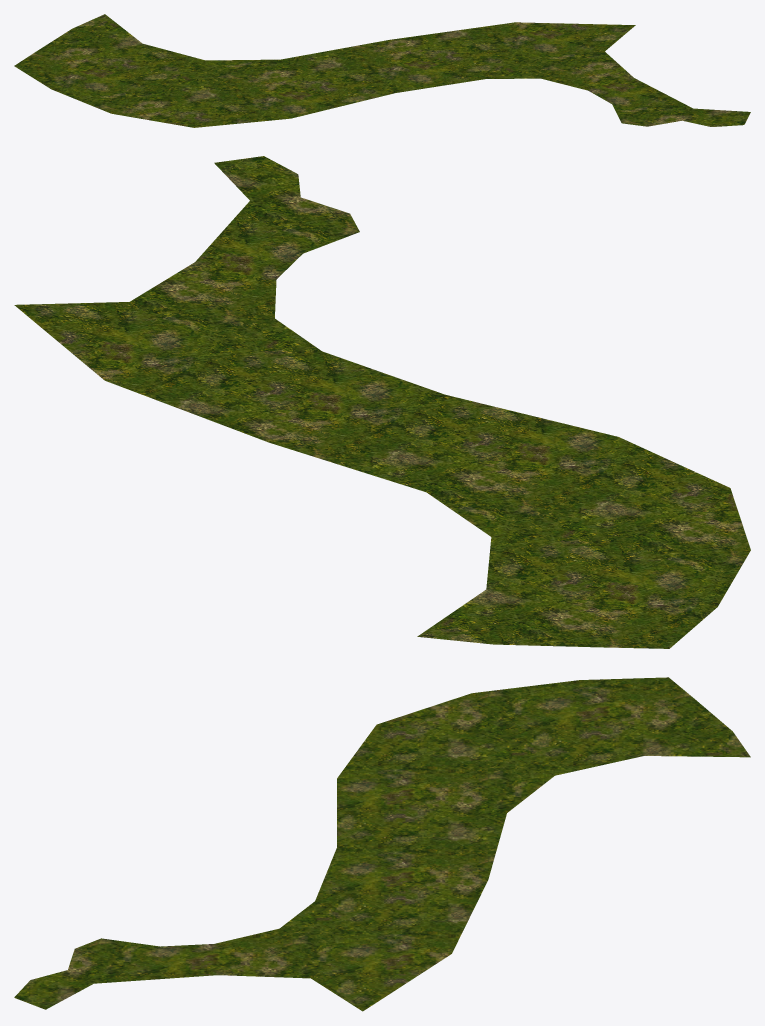
Rendered from OVERHILL_A_01_LINE112.fbx.
The picture shows the model from 3 angles, top to bottom: view 1: azimuth 30°, elevation 25°; view 2: azimuth 150°, elevation 25°; view 3: azimuth 270°, elevation 25°; orthographic projection. The views are drawn at different scales.
Parts seen in each view (by area): view 1: OVERHILL_A_01_LINE112; view 2: OVERHILL_A_01_LINE112; view 3: OVERHILL_A_01_LINE112.
Boxes of the visible parts, left/top/right/bottom form: OVERHILL_A_01_LINE112: left=14, top=14, right=750, bottom=127; OVERHILL_A_01_LINE112: left=14, top=156, right=750, bottom=648; OVERHILL_A_01_LINE112: left=14, top=677, right=750, bottom=1011.
Bounding box in the file's own units: 81010 × 0.0454 × 75517.
1 material, 1 textured.
